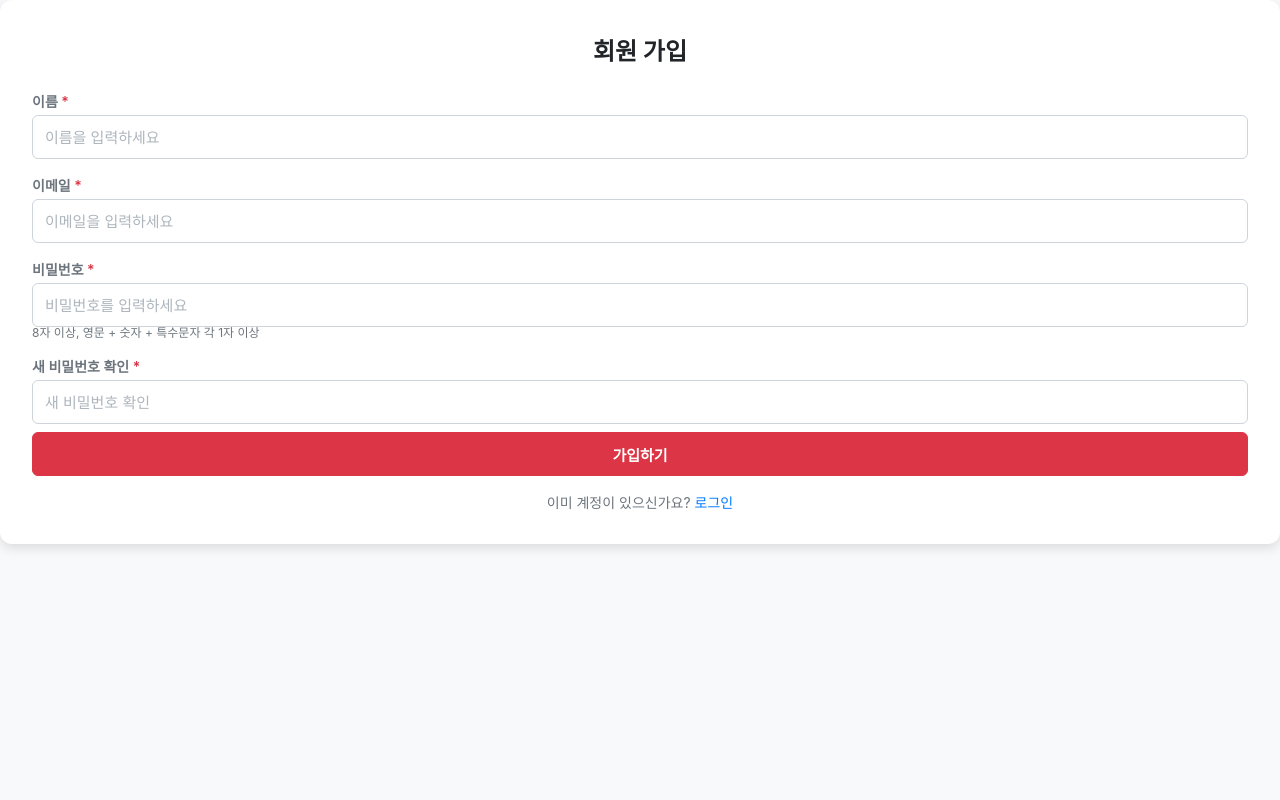
Test: RegisterForm › 빈 폼 제출 시 각 필드에 유효성 에러 메시지가 표시된다
The image size is (1280, 800).
Click the button "가입하기" at [640, 454], box [32,432,1248,476]
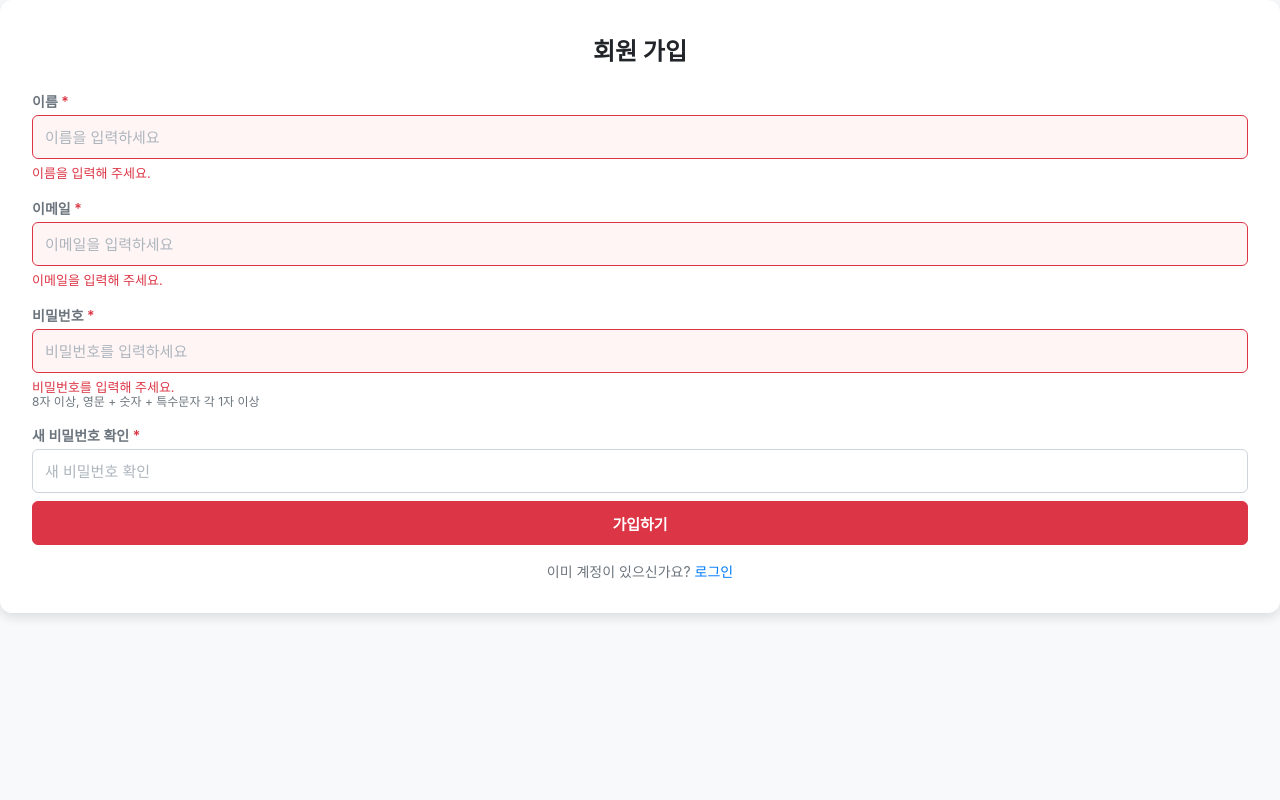
Now the text "이름을 입력해 주세요." is shown, box [32,165,151,181]
Now the text "이메일을 입력해 주세요." is shown, box [32,272,163,288]
Now the text "비밀번호를 입력해 주세요." is shown, box [32,379,175,395]
